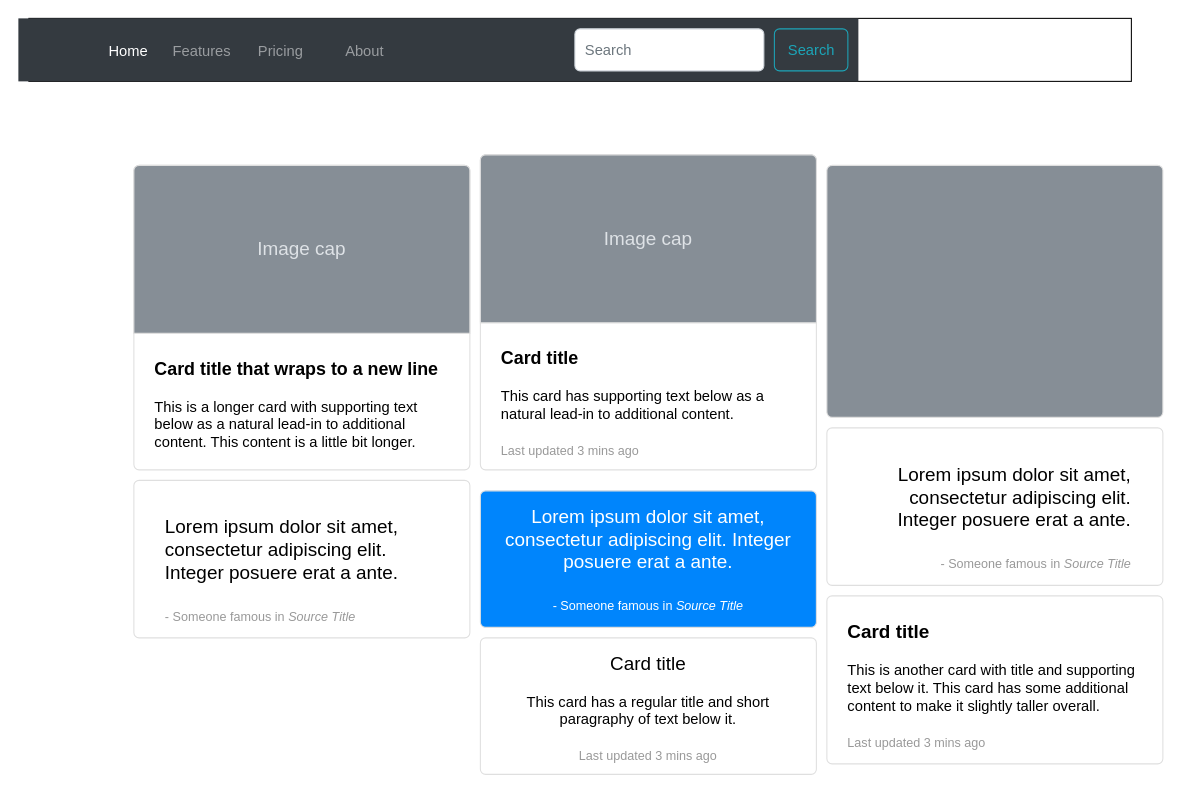
Image size: 1181x793. Some labels were removed from this diagram. The centre of each missing label's shape, as x and y in pixels:
Card image: point 994,290
Navbar: point 438,49
